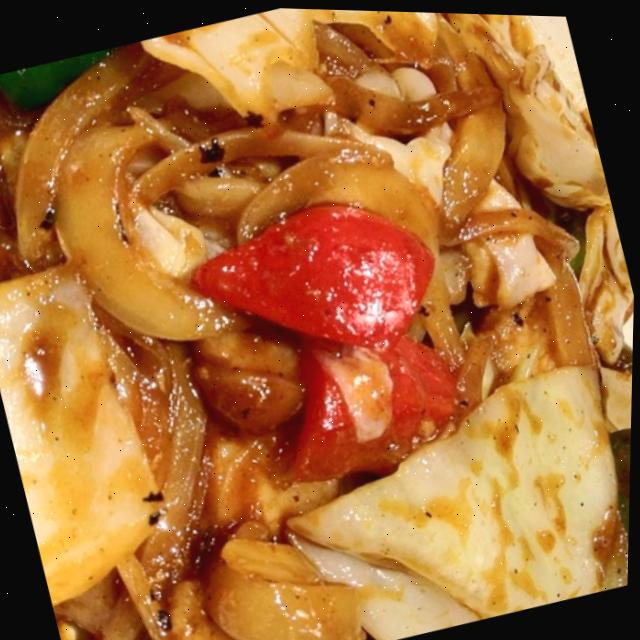熟制海鲜: (392, 174, 637, 616)
